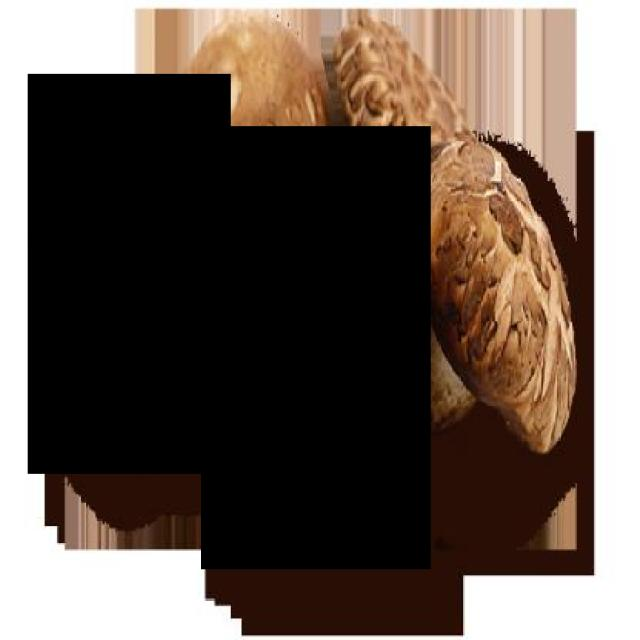Mushroom: (200, 126, 431, 569), (28, 74, 230, 473)
